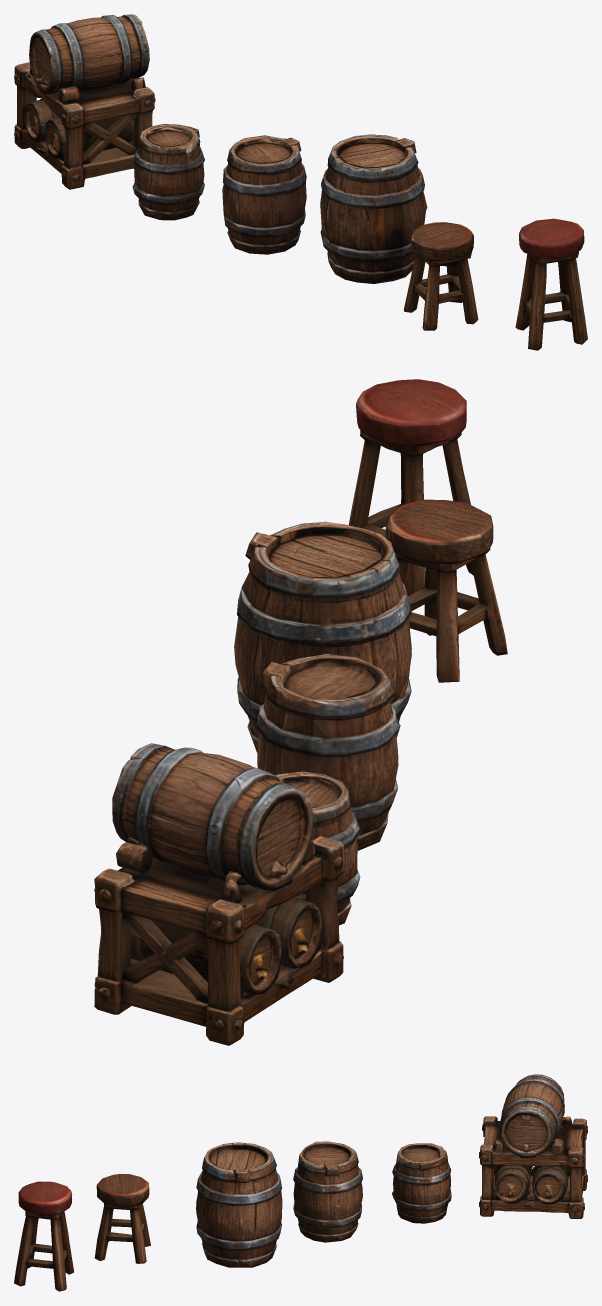
The model's file is tripo_convert_71ced92c-14d4-4041-b697-20c6d90be167.obj.
3 renders of one model, top to bottom at view 1: azimuth 30°, elevation 25°; view 2: azimuth 150°, elevation 25°; view 3: azimuth 270°, elevation 25°, orthographic. The views are drawn at different scales.
Parts seen in each view (by area): view 1: tripo_part_2, tripo_part_0, tripo_part_4, tripo_part_1, tripo_part_5, tripo_part_6, tripo_part_7, tripo_part_10, tripo_part_3, tripo_part_9; view 2: tripo_part_0, tripo_part_2, tripo_part_1, tripo_part_4, tripo_part_6, tripo_part_10, tripo_part_7, tripo_part_5, tripo_part_3, tripo_part_9, tripo_part_8; view 3: tripo_part_2, tripo_part_4, tripo_part_0, tripo_part_1, tripo_part_5, tripo_part_6, tripo_part_7, tripo_part_10, tripo_part_3, tripo_part_8.
Boxes of the visible parts, x1,y1,x2,y2 form: tripo_part_2: [320, 134, 427, 283]; tripo_part_0: [14, 62, 155, 189]; tripo_part_4: [222, 135, 306, 254]; tripo_part_1: [29, 14, 149, 94]; tripo_part_5: [132, 124, 204, 220]; tripo_part_6: [403, 222, 478, 330]; tripo_part_7: [515, 251, 587, 350]; tripo_part_10: [519, 218, 584, 258]; tripo_part_3: [45, 116, 133, 160]; tripo_part_9: [24, 98, 54, 141]; tripo_part_0: [94, 836, 343, 1045]; tripo_part_2: [234, 521, 411, 752]; tripo_part_1: [112, 743, 313, 891]; tripo_part_4: [256, 654, 399, 850]; tripo_part_6: [385, 499, 507, 682]; tripo_part_10: [356, 379, 466, 445]; tripo_part_7: [348, 430, 473, 595]; tripo_part_5: [275, 771, 360, 925]; tripo_part_3: [256, 896, 322, 968]; tripo_part_9: [239, 923, 282, 995]; tripo_part_8: [130, 920, 207, 982]; tripo_part_2: [196, 1142, 282, 1267]; tripo_part_4: [293, 1141, 362, 1242]; tripo_part_0: [479, 1116, 587, 1218]; tripo_part_1: [500, 1074, 564, 1158]; tripo_part_5: [392, 1143, 451, 1223]; tripo_part_6: [94, 1174, 150, 1263]; tripo_part_7: [14, 1211, 73, 1291]; tripo_part_10: [18, 1181, 72, 1215]; tripo_part_3: [494, 1165, 532, 1204]; tripo_part_8: [532, 1166, 569, 1204].
Size of the model in its own units: 0.4247 by 0.2273 by 0.9791.
1 material, 1 textured.
